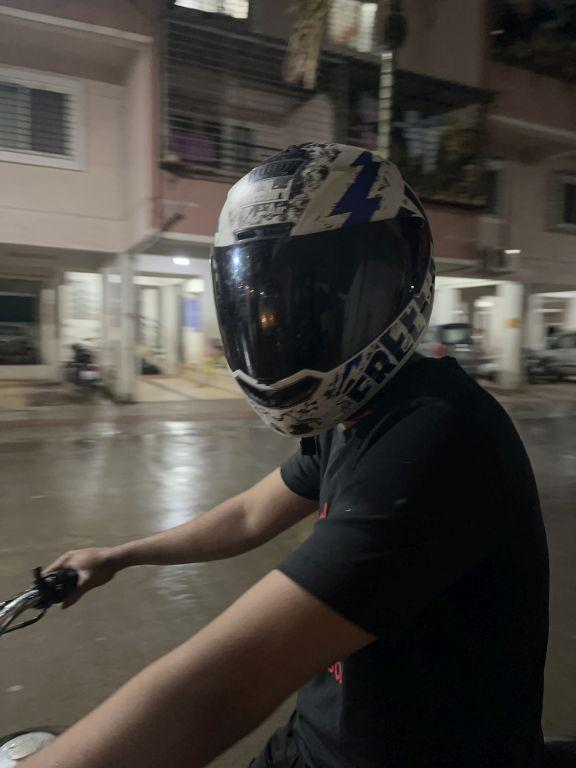helmet: (199, 127, 442, 442)
